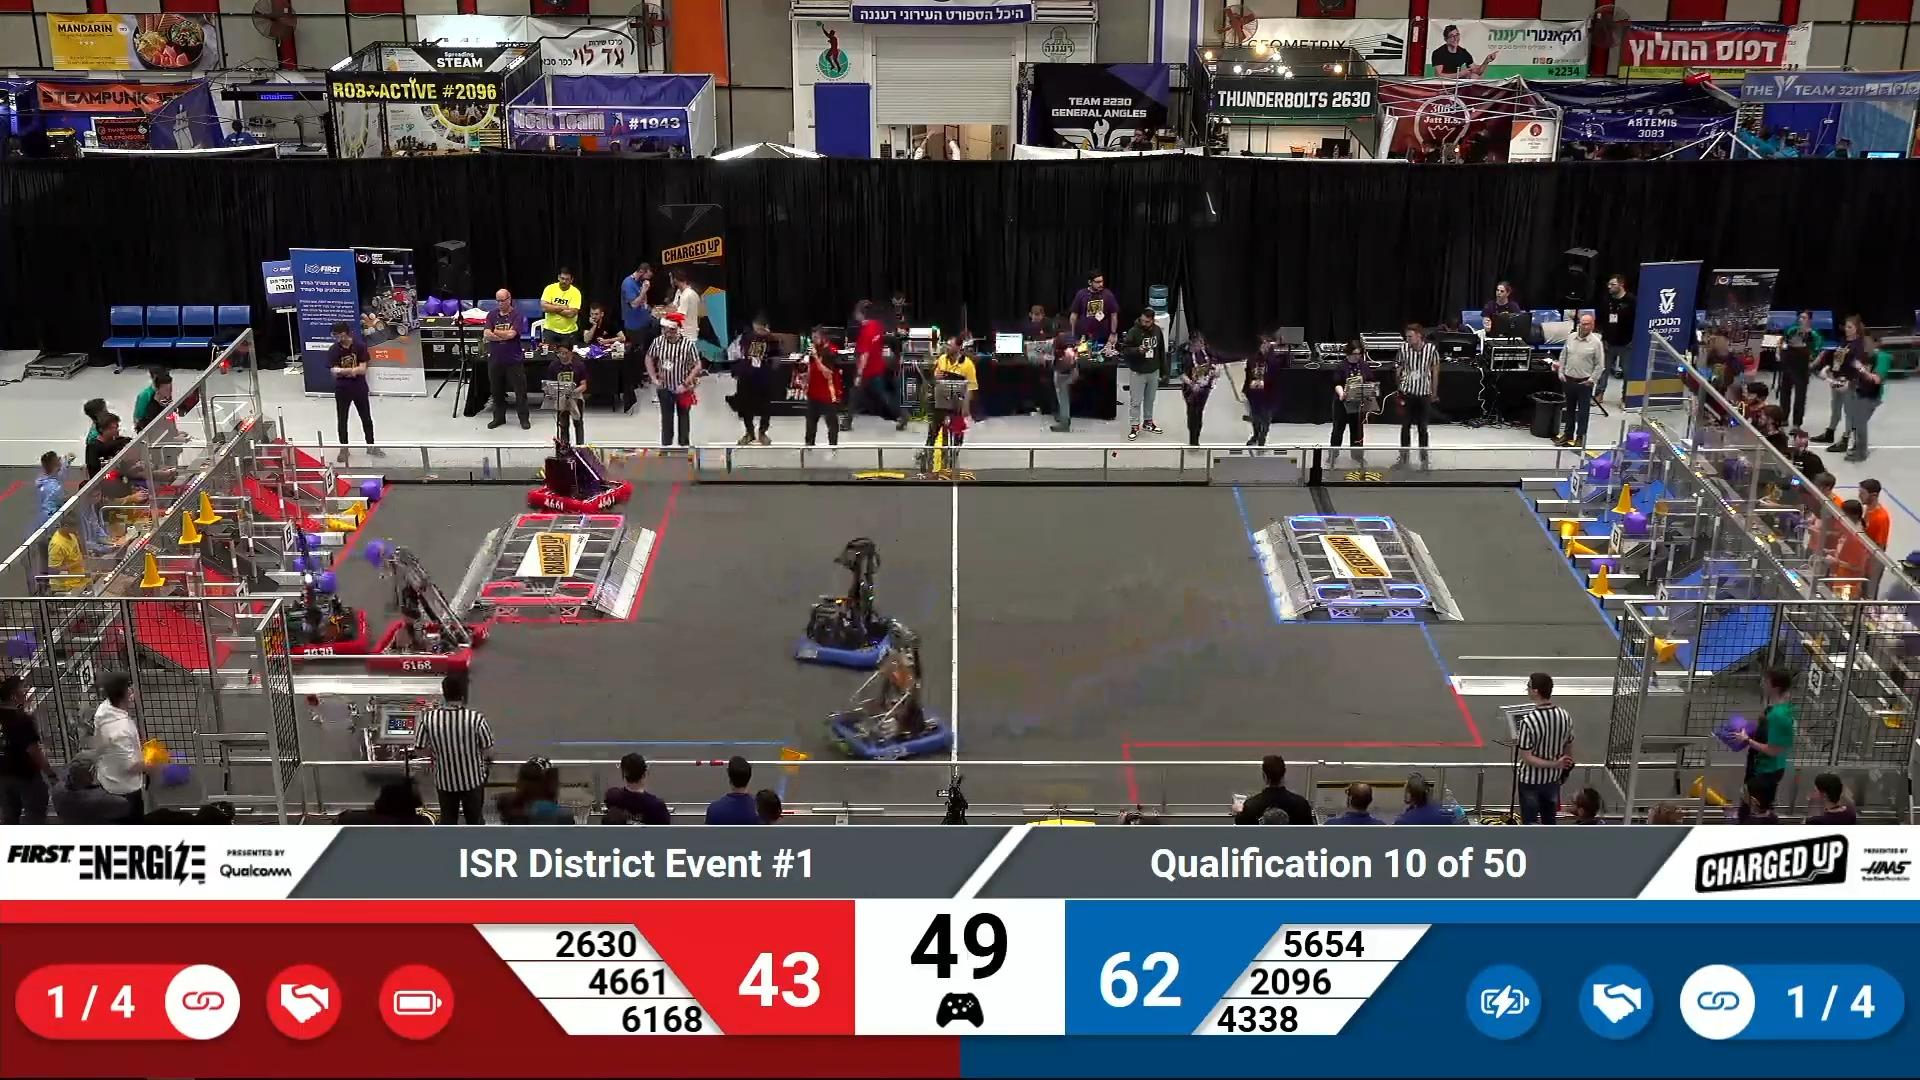robot: (268, 551, 375, 666), (791, 572, 902, 679), (824, 680, 955, 770), (367, 583, 492, 675), (353, 684, 459, 785), (529, 440, 638, 517)
